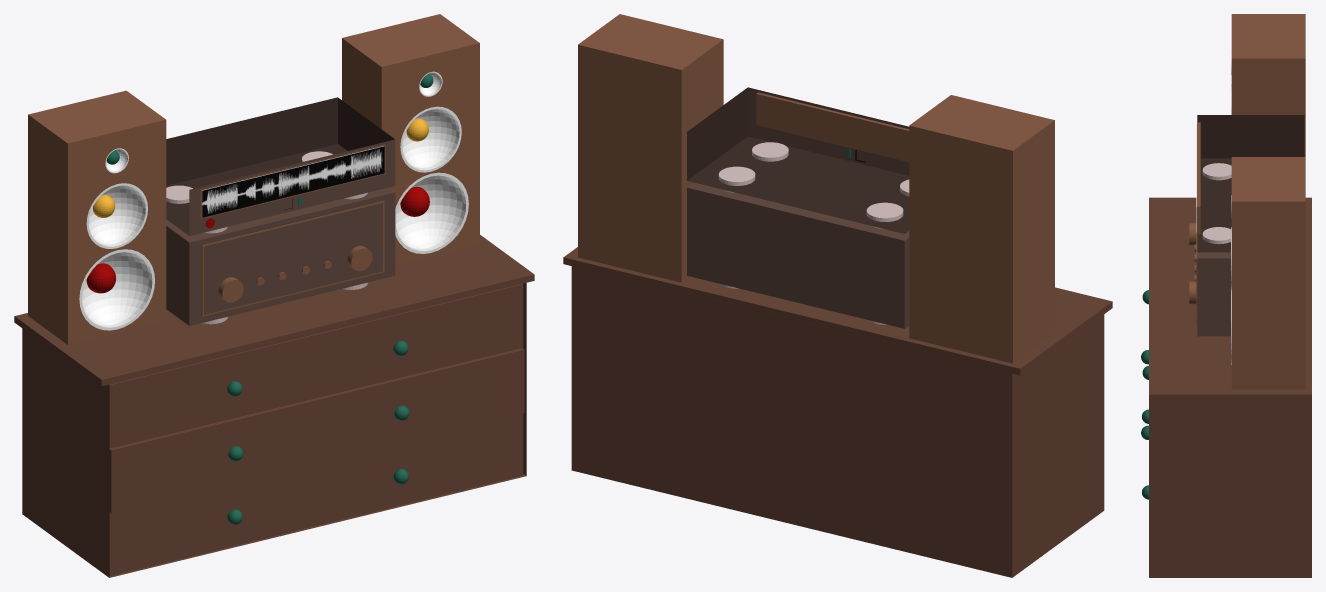
Rendered from SoundSystem.gltf.
3 renders of one model, left to right at view 1: azimuth 30°, elevation 25°; view 2: azimuth 150°, elevation 25°; view 3: azimuth 270°, elevation 25°, orthographic. The views are drawn at different scales.
Parts seen in each view (by area): view 1: SoundSystem; view 2: SoundSystem; view 3: SoundSystem.
Part boxes in pixels (x1,y1,x2,y2): SoundSystem: (14,14,534,577); SoundSystem: (563,14,1112,577); SoundSystem: (1141,14,1311,577).
Bounding box in the file's own units: 8.68 × 7.7 × 3.18.
12 materials, 1 textured.
